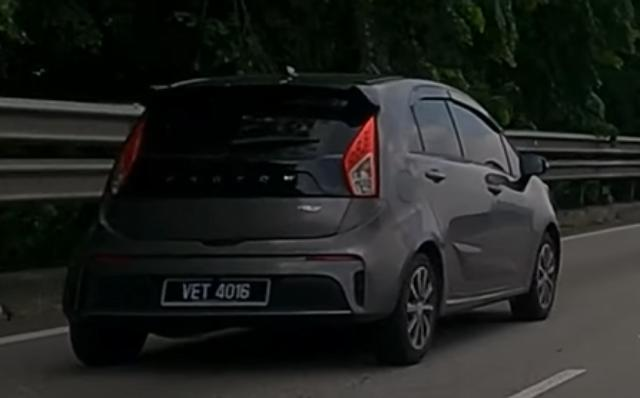License_Plate: (161, 277, 272, 308)
car: (62, 69, 563, 368)
